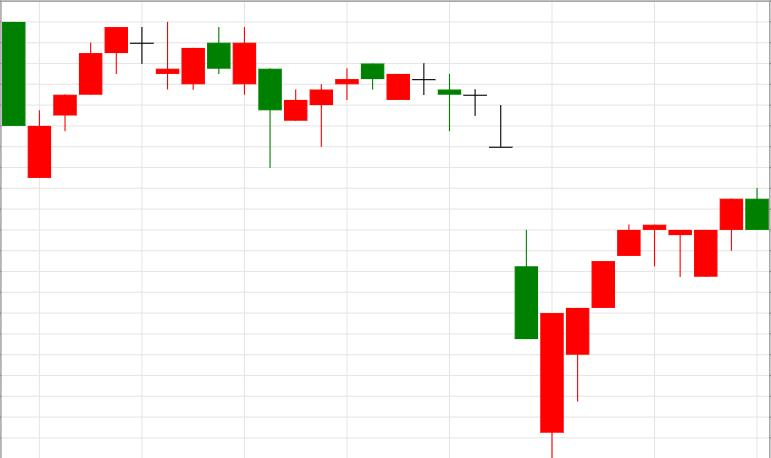three_white_soldiers_rise: (412, 61, 641, 458)
